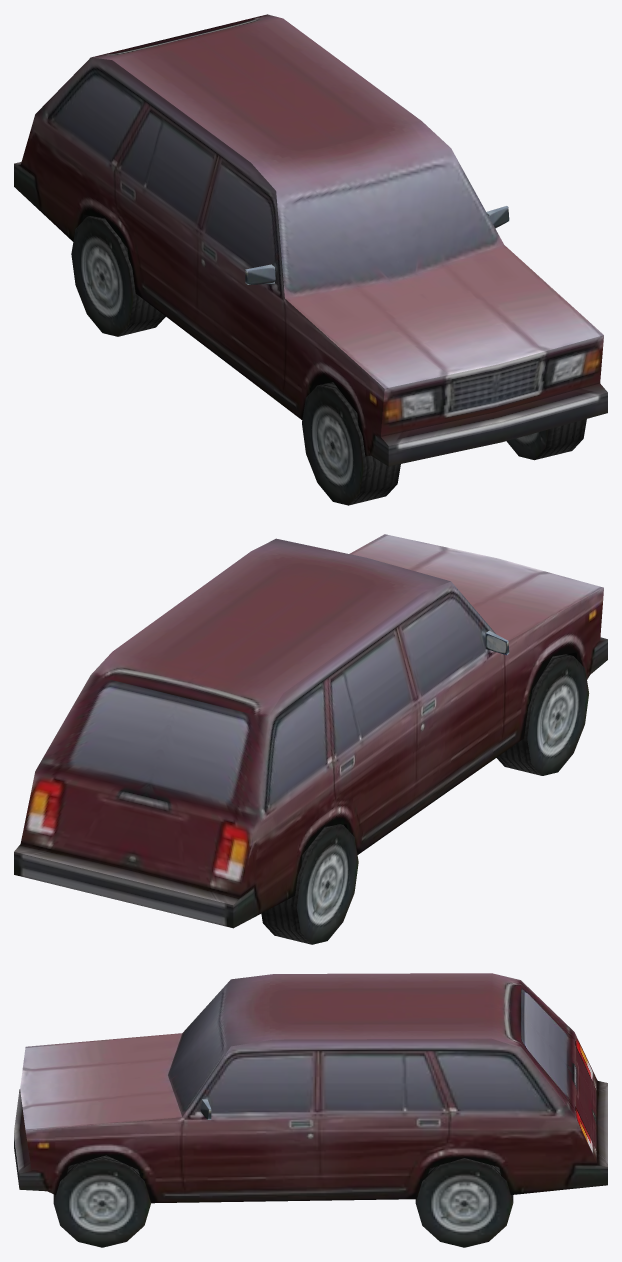
The model's file is sedan_maroon.glb.
3 renders of one model, top to bottom at view 1: azimuth 30°, elevation 25°; view 2: azimuth 150°, elevation 25°; view 3: azimuth 270°, elevation 25°, orthographic. The views are drawn at different scales.
Visible parts, largest first — view 1: Body; view 2: Body; view 3: Body.
Boxes of the visible parts, x1,y1,x2,y2 form: Body: (14,14,607,505); Body: (14,534,607,944); Body: (14,973,607,1247).
Bounding box in the file's own units: 1.66 × 1.53 × 4.14.
Materials: 2 (1 with a texture image).
